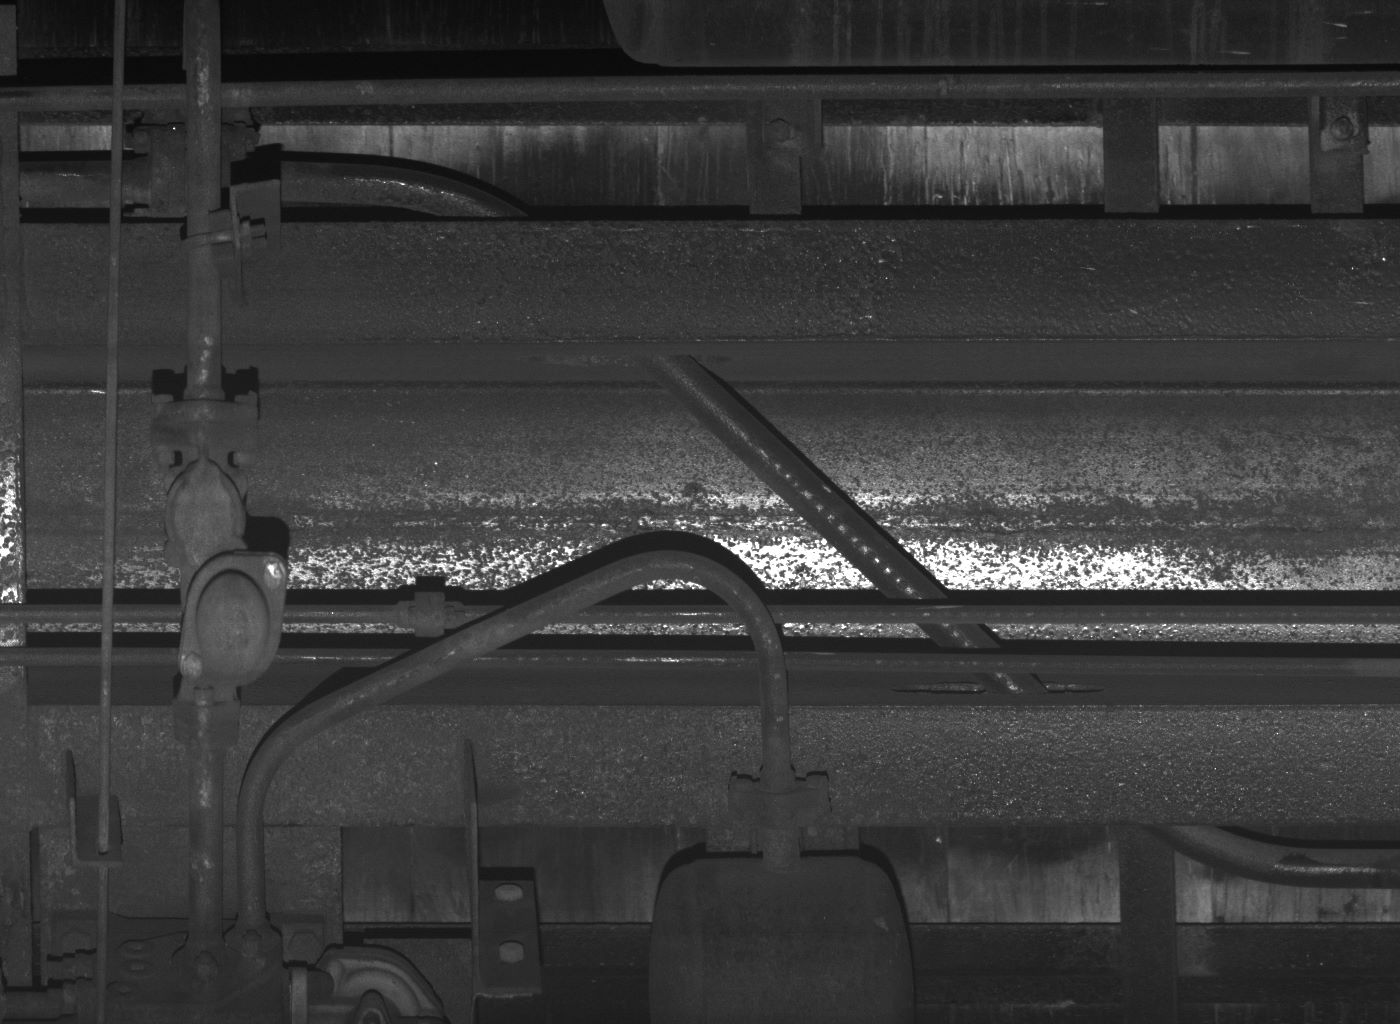normal: (161, 464, 243, 565)
